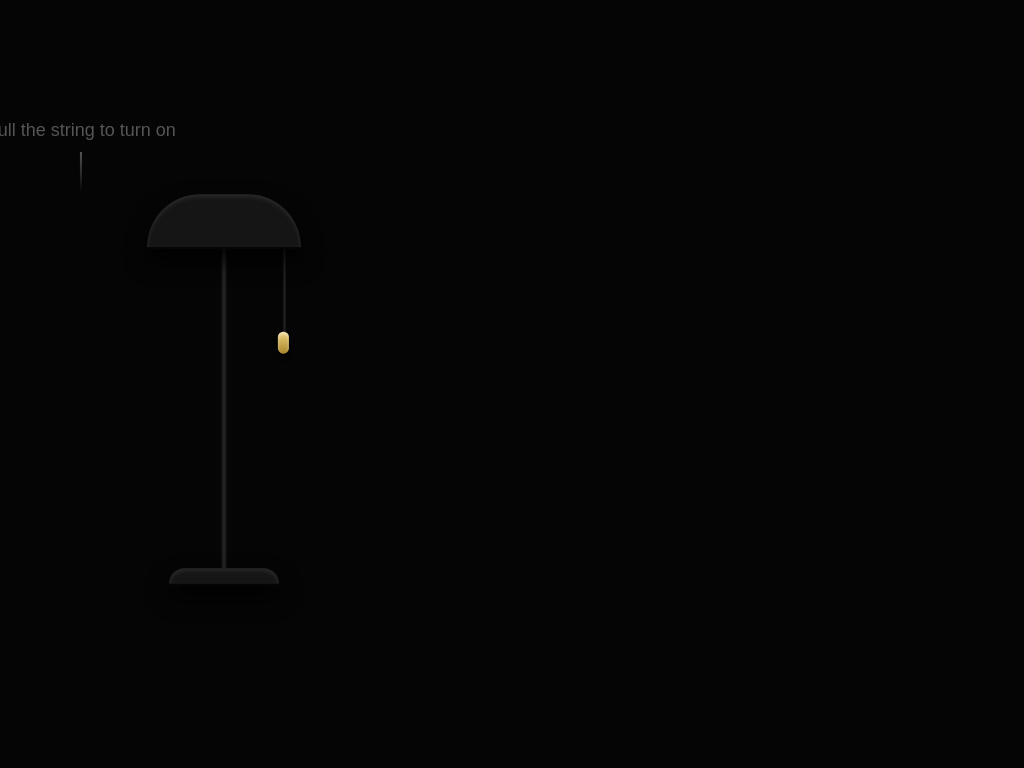
Lamp activation reveals the login form › navigates from login to registration via the link without reactivating the lamp
The width and height of the screenshot is (1024, 768).
Press Enter in the button with id "stringHandle", box [278, 332, 289, 354]
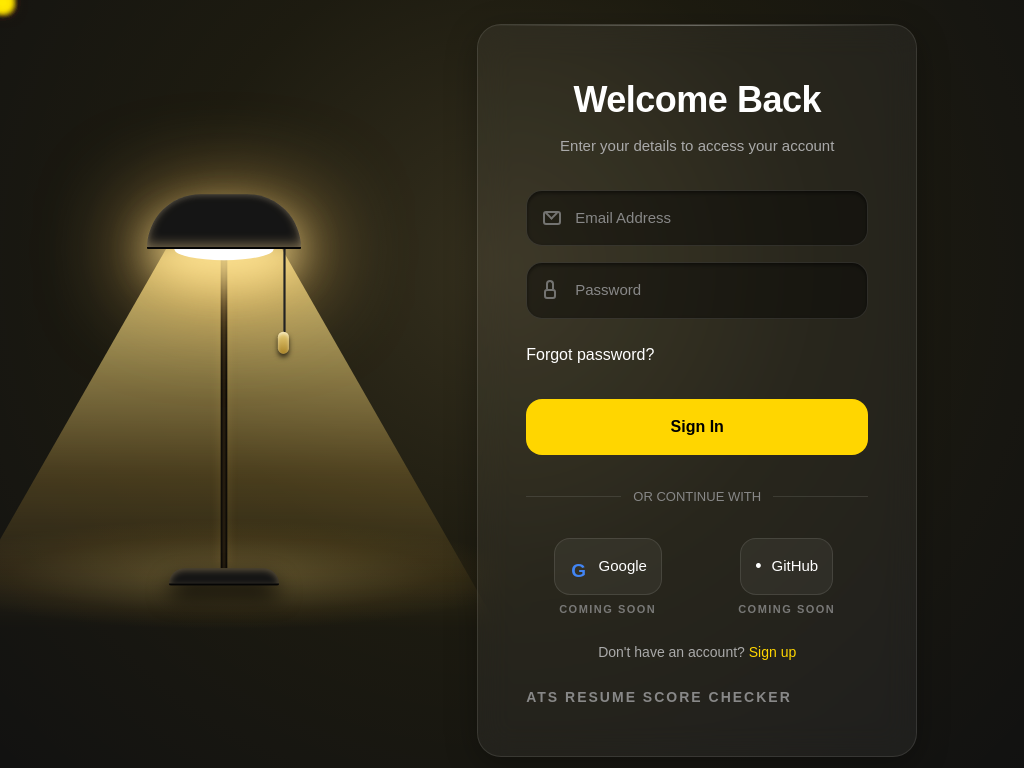
Click the link "Sign up": (773, 652) [749, 644, 796, 660]
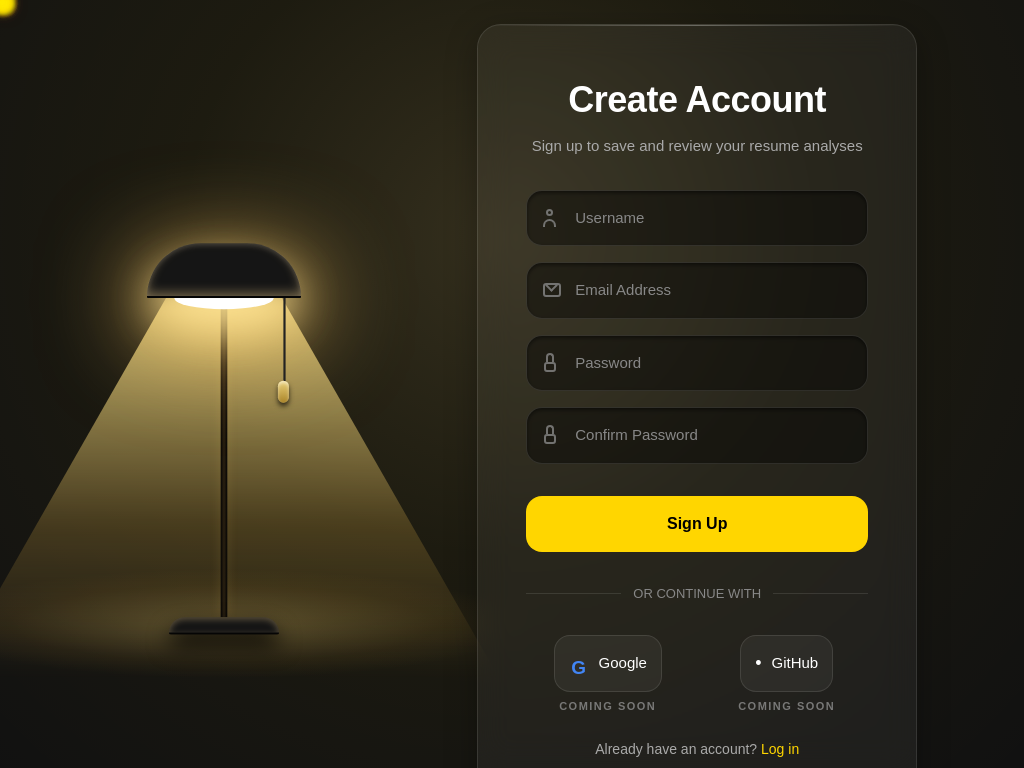
Expected: the field with placeholder "Username" is shown, [526, 190, 868, 246]
